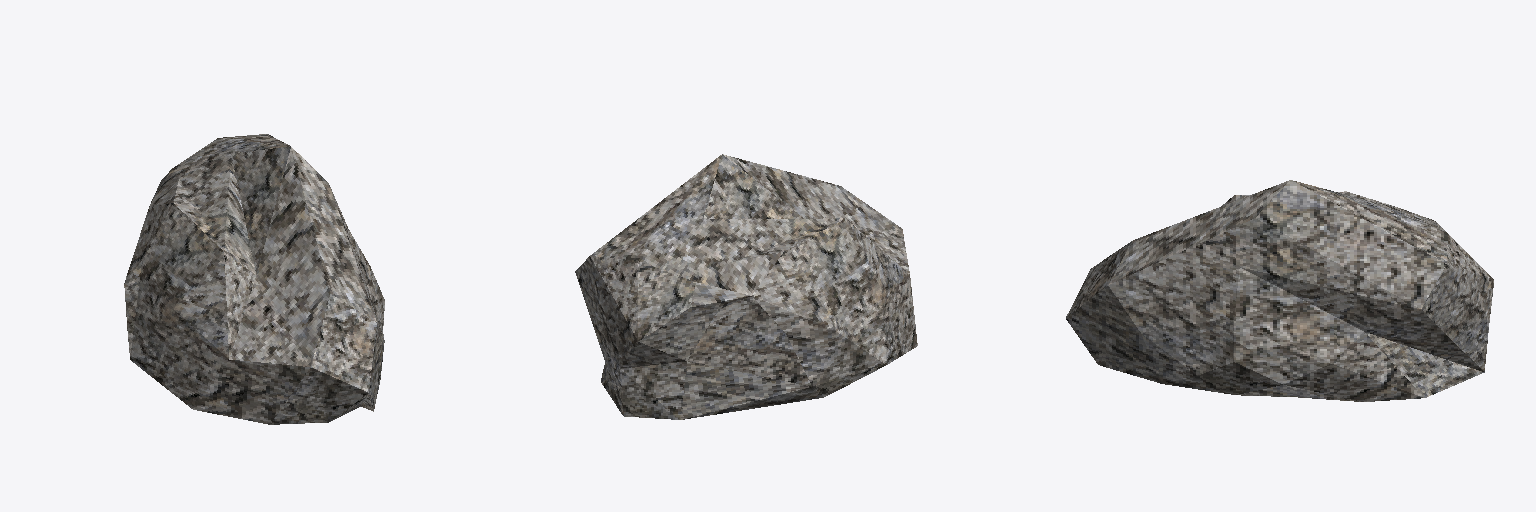
The picture shows the model from 3 angles: view 1: azimuth 30°, elevation 25°; view 2: azimuth 150°, elevation 25°; view 3: azimuth 270°, elevation 25°; orthographic projection.
Parts seen in each view (by area): view 1: SphereUV.obj; view 2: SphereUV.obj, Vertex_Object; view 3: SphereUV.obj, Vertex_Object.
Boxes of the visible parts, x1,y1,x2,y2 form: SphereUV.obj: [124, 134, 384, 424]; SphereUV.obj: [590, 154, 917, 419]; Vertex_Object: [575, 256, 695, 419]; SphereUV.obj: [1066, 180, 1484, 401]; Vertex_Object: [1421, 234, 1493, 371].
Size of the model in its own units: 9.18 by 6.88 by 13.94.
1 materials, 1 textured.